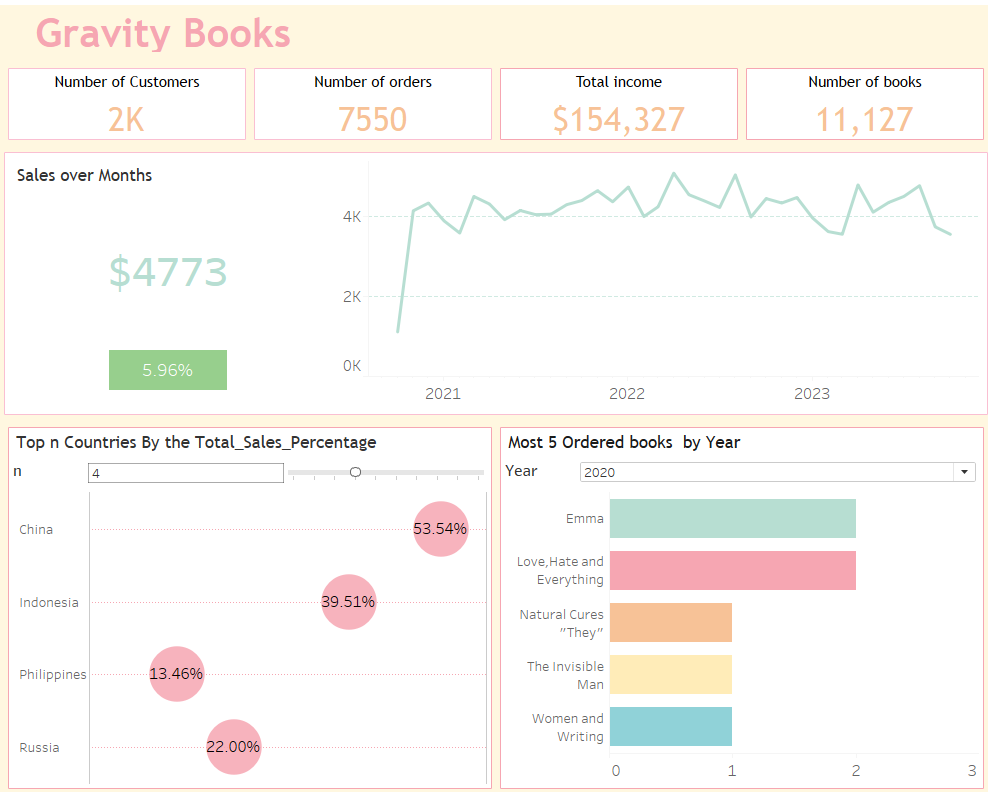

The page's visual inventory and layout, read from the dashboard file:
{"tool":"tableau","page":{"name":"Dashboard 1","canvas":[1000,800],"ordinal":0},"visuals":[{"type":"text","box":[8,8,984,47.1]},{"type":"blank","box":[11,60,981,89]},{"type":"worksheet","title":"Sheet 7","mark":"Automatic","box":[8,63,246,80]},{"type":"worksheet","title":"Sheet 8","mark":"Automatic","box":[254,63,246,80]},{"type":"worksheet","title":"Sheet 9","mark":"Automatic","box":[500,63,246,80]},{"type":"worksheet","title":"Sheet 10","mark":"Automatic","box":[746,63,246,80]},{"type":"blank","box":[10,151,311,260]},{"type":"worksheet","title":"Sheet 3","mark":"Shape","box":[13,156.1,317,172]},{"type":"worksheet","title":"Sheet 2","mark":"Automatic","rows":["Price"],"cols":["Date"],"box":[338,156.1,649,253]},{"type":"worksheet","title":"Sheet 6","mark":"Shape","box":[13,328.1,317,81]},{"type":"text","box":[13,427,482,28]},{"type":"text","box":[505,427,482,28]},{"type":"parameter","param":"[Parameters].[Parameter 3]","box":[13,455,482,32]},{"type":"parameter","param":"[Parameters].[Year Parameter]","box":[505,455,482,32]},{"type":"worksheet","title":"Sheet 4","mark":"Circle","rows":["Calculation_1592585471136784384","Calculation_208573005695606791"],"cols":["Price"],"box":[13,487,482,300]},{"type":"worksheet","title":"Sheet 1","mark":"Automatic","rows":["Title"],"cols":["DimBook_FK"],"box":[505,487,482,300]}]}

Visuals, with their boxes in screenshot pixels (x1, y1, x2, y2), scaled from the page's 1000x800 canvas onto the 988x792 screenshot:
text: (8,8,980,55)
blank: (11,59,980,148)
"Sheet 7" worksheet: (8,62,251,142)
"Sheet 8" worksheet: (251,62,494,142)
"Sheet 9" worksheet: (494,62,737,142)
"Sheet 10" worksheet: (737,62,980,142)
blank: (10,149,317,407)
"Sheet 3" worksheet (Shape marks): (13,155,326,325)
"Sheet 2" worksheet: (334,155,975,405)
"Sheet 6" worksheet (Shape marks): (13,325,326,405)
text: (13,423,489,450)
text: (499,423,975,450)
parameter: (13,450,489,482)
parameter: (499,450,975,482)
"Sheet 4" worksheet (Circle marks): (13,482,489,779)
"Sheet 1" worksheet: (499,482,975,779)
